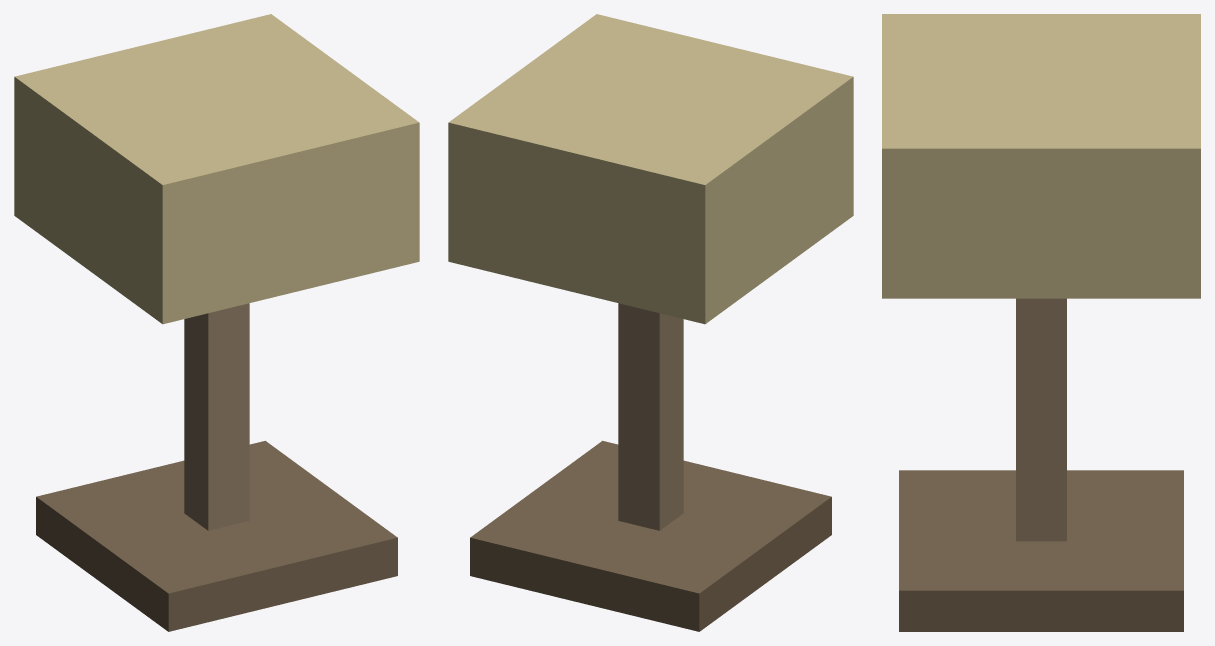
File: floor_lamp.gltf
The picture shows the model from 3 angles, left to right: view 1: azimuth 30°, elevation 25°; view 2: azimuth 150°, elevation 25°; view 3: azimuth 270°, elevation 25°; orthographic projection. The views are drawn at different scales.
Parts seen in each view (by area): view 1: floor_lamp; view 2: floor_lamp; view 3: floor_lamp.
Part boxes in pixels (x1,y1,x2,y2): floor_lamp: (14,14,419,631); floor_lamp: (448,14,853,631); floor_lamp: (882,14,1200,631).
Bounding box in the file's own units: 0.56 × 0.95 × 0.56.
